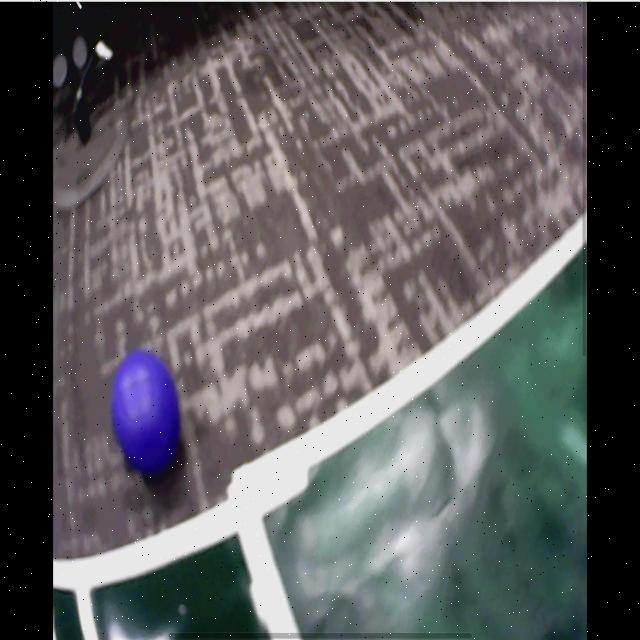ball: (111, 350, 183, 474)
